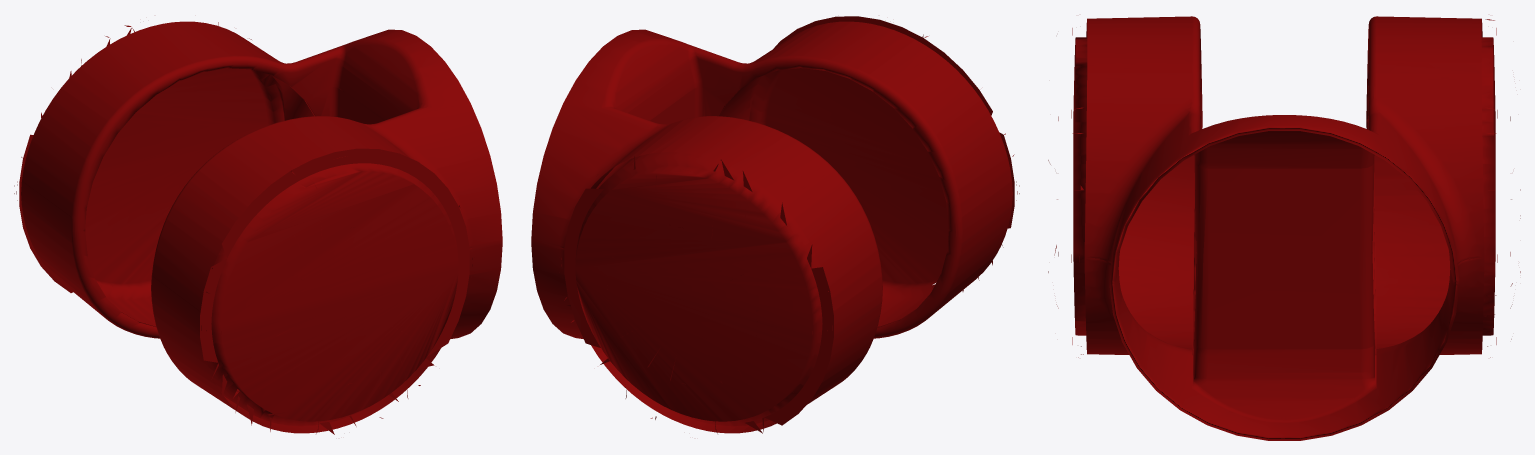
3 renders of one model, left to right at view 1: azimuth 30°, elevation 25°; view 2: azimuth 150°, elevation 25°; view 3: azimuth 270°, elevation 25°, orthographic. The views are drawn at different scales.
Bounding box in the file's own units: 0.1608 × 0.1394 × 0.1892.
